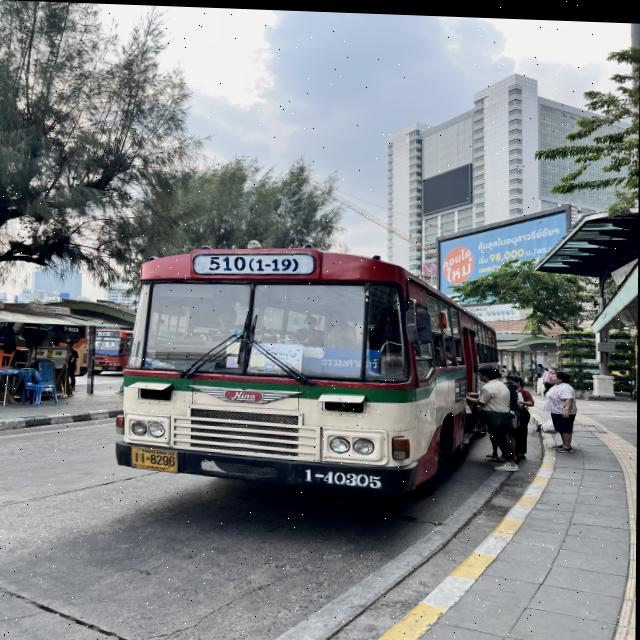BMTA-bus: (114, 241, 514, 499)
Bus-Line-Number: (201, 251, 302, 275)
Destination-Sign-Normal: (304, 342, 381, 373)
